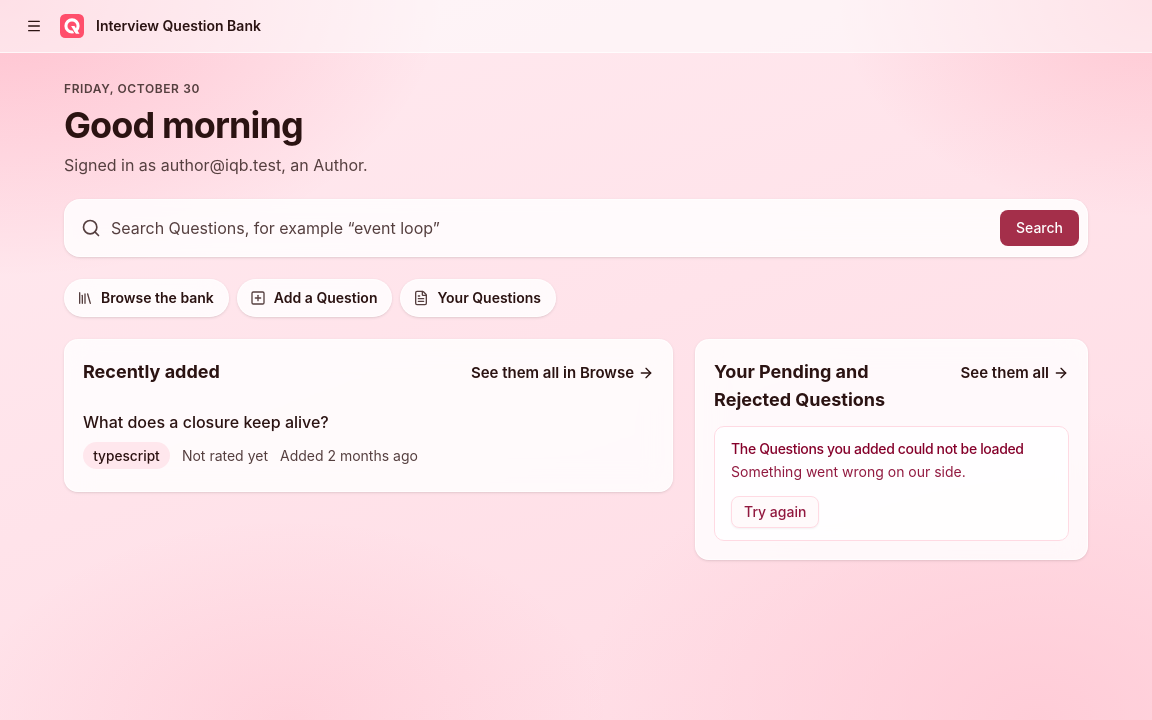
Your Pending and Rejected Questions on Home › says so when the list fails, and leaves the rest of Home working
Expected: the text "The Questions you added could not be loaded" is shown, x1=731 y1=439 x2=1052 y2=459
Expected: the link "What does a closure keep alive?" is shown, x1=83 y1=412 x2=329 y2=432
What coordinates should you click on to do the following:
click the button "Try again"
I would click on:
 (775, 512)
Its box is x1=731 y1=496 x2=819 y2=528.
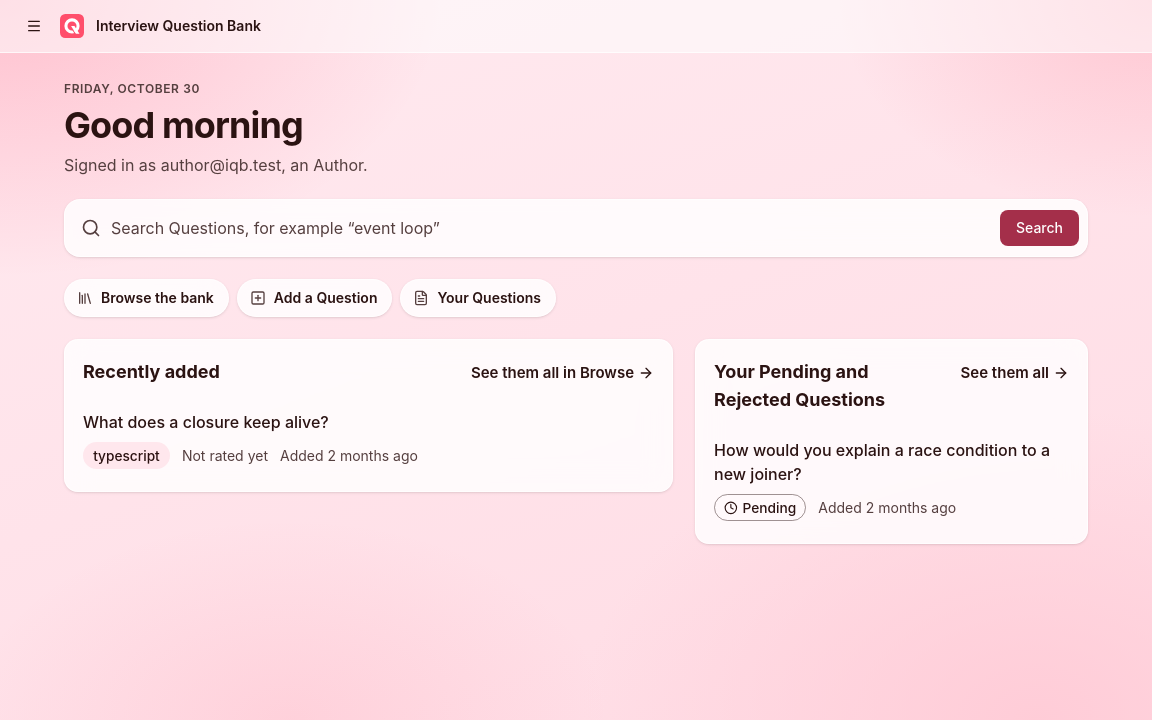
Now the link "How would you explain a race condition to a new joiner?" is shown, box x1=714 y1=438 x2=1069 y2=486
